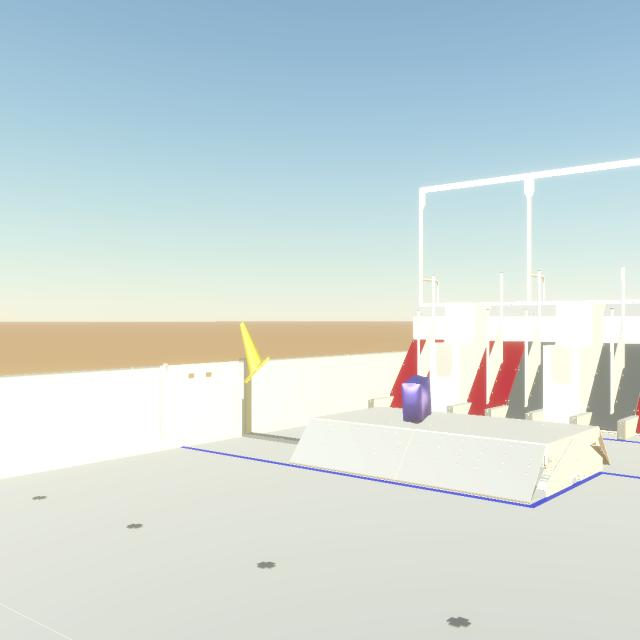frc_cone: (240, 322, 269, 384)
frc_cube: (401, 375, 432, 424)
